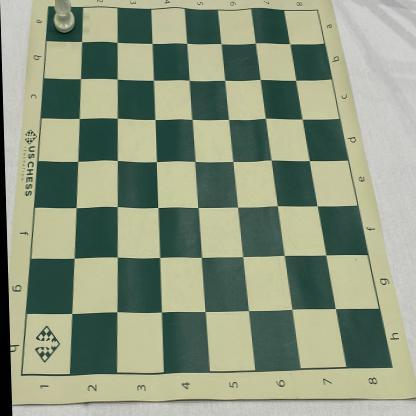white-knight: (52, 0, 76, 34)
